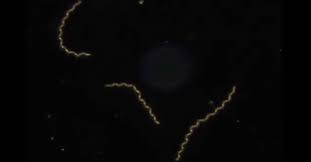sphyillis: (177, 84, 239, 162), (103, 81, 167, 125), (56, 2, 91, 60)
